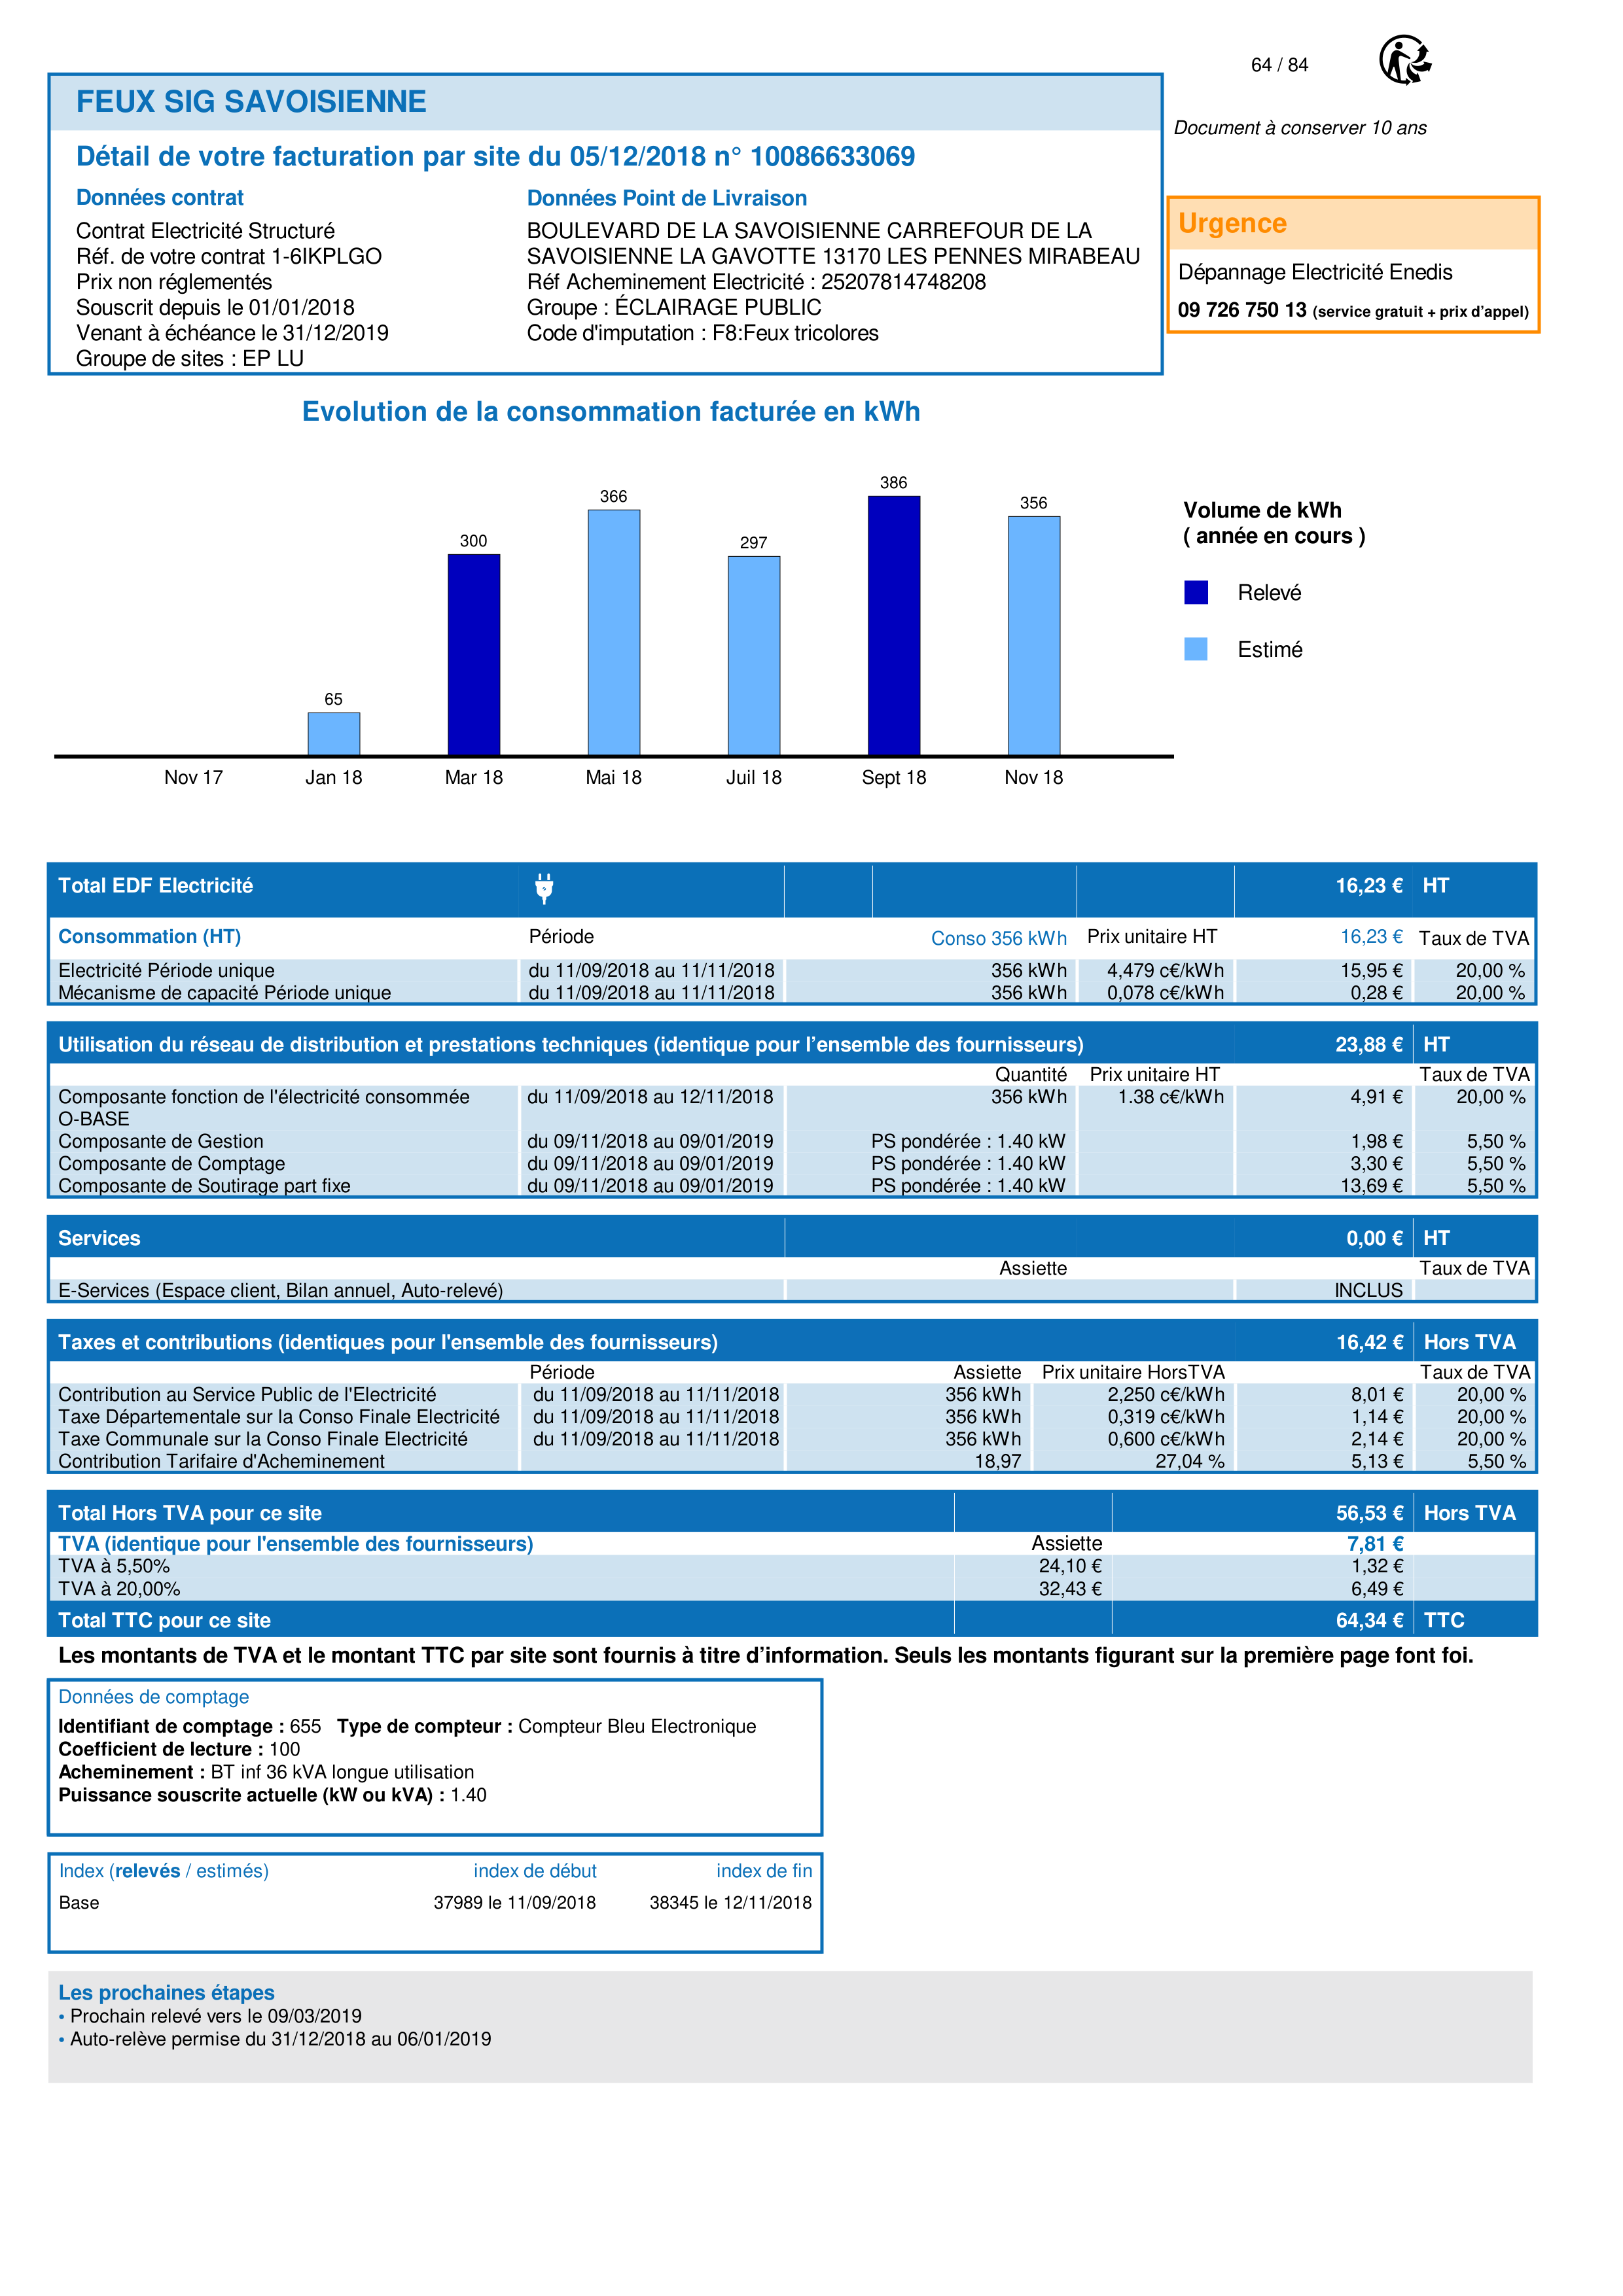area: (50, 1852, 821, 1956)
type_indicator: (46, 1852, 279, 1883)
